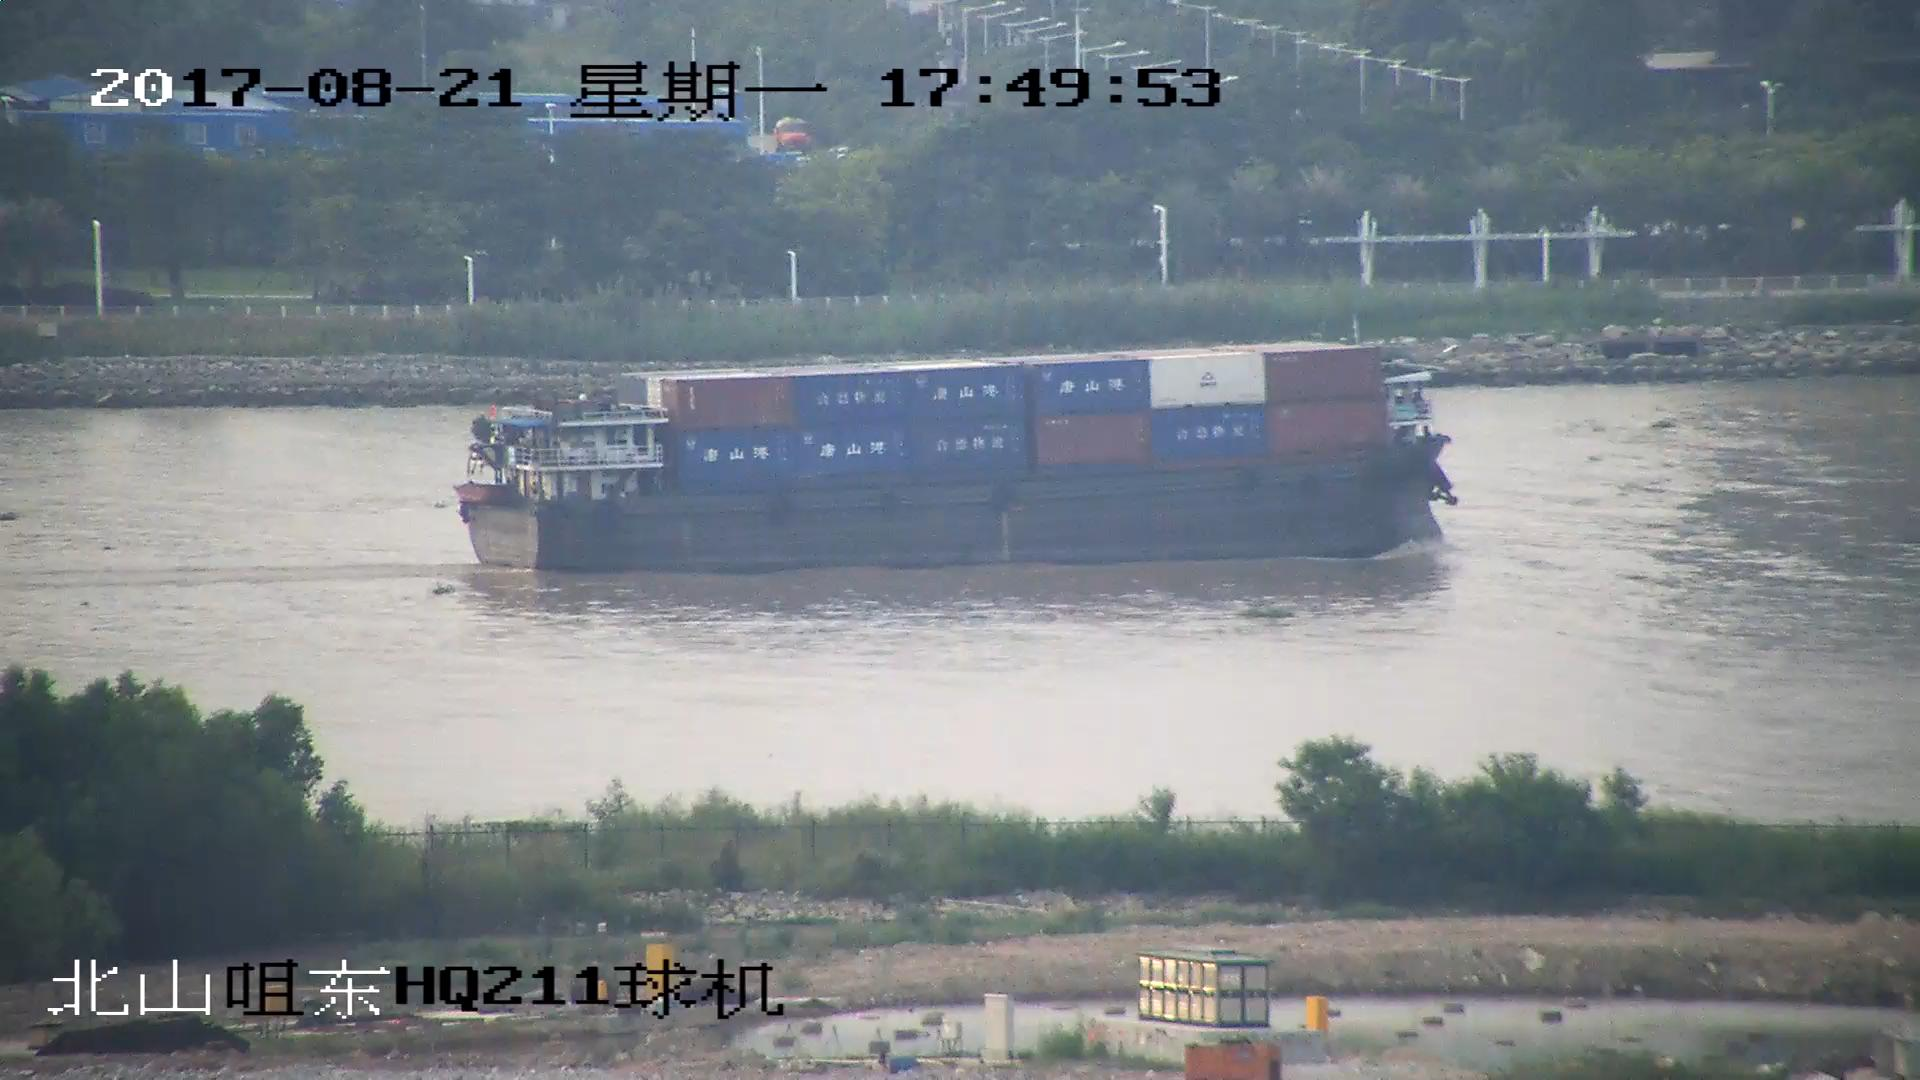container ship: (455, 346, 1457, 567)
